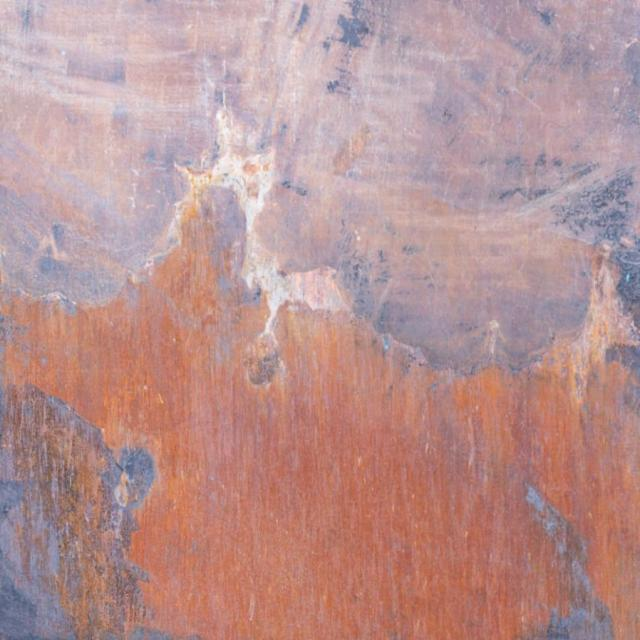Uniform Corrosion: (0, 247, 639, 639)
